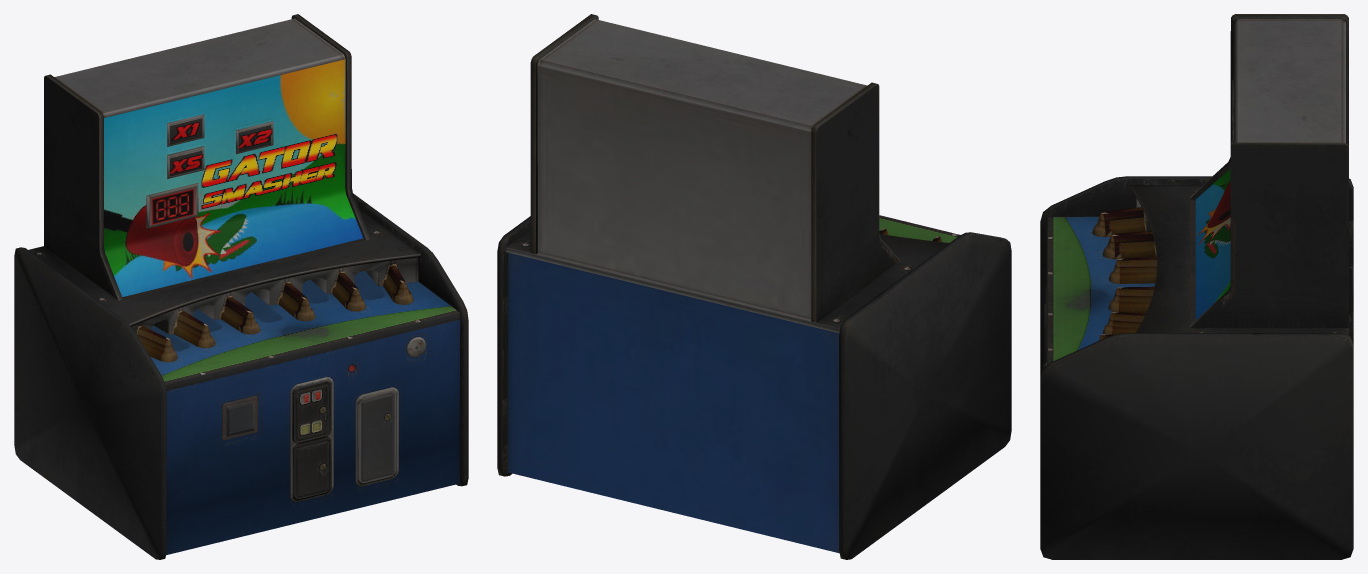
File: table.obj
The picture shows the model from 3 angles, left to right: view 1: azimuth 30°, elevation 25°; view 2: azimuth 150°, elevation 25°; view 3: azimuth 270°, elevation 25°; orthographic projection. The views are drawn at different scales.
Parts seen in each view (by area): view 1: default; view 2: default; view 3: default.
Part boxes in pixels (x1=…): default: x1=14, y1=14, x2=468, y2=559; default: x1=497, y1=14, x2=1011, y2=559; default: x1=1040, y1=14, x2=1353, y2=559.
Size of the model in its own units: 78.58 by 91.96 by 65.17.
1 material, 1 textured.
